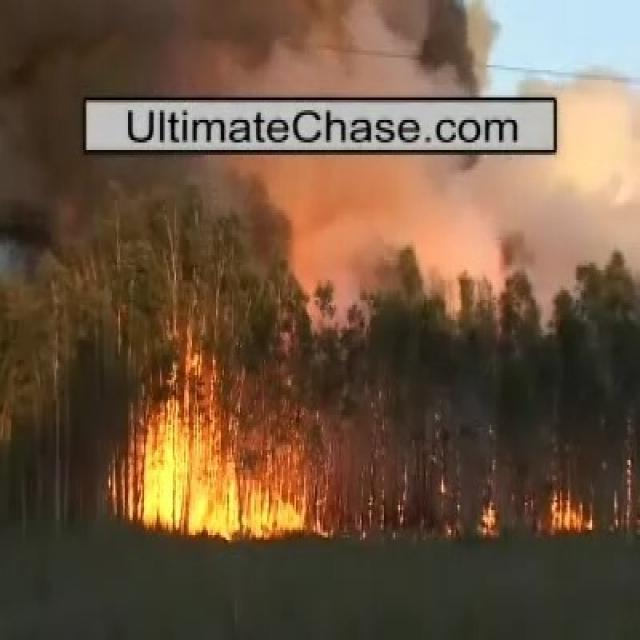fire: (131, 424, 300, 530)
smoke: (12, 3, 493, 94), (256, 160, 567, 254)
